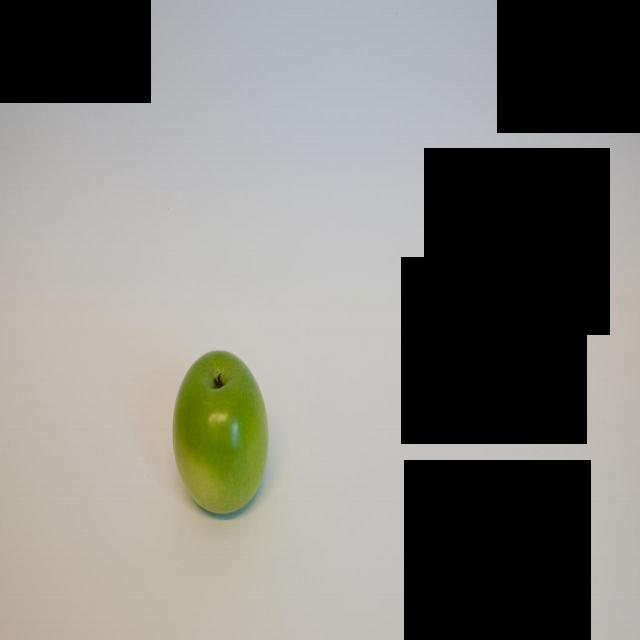apple: (172, 348, 269, 516)
